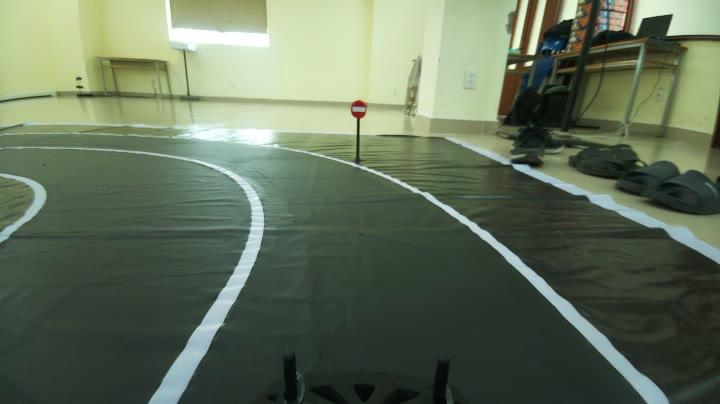no_entry: (338, 96, 376, 122)
